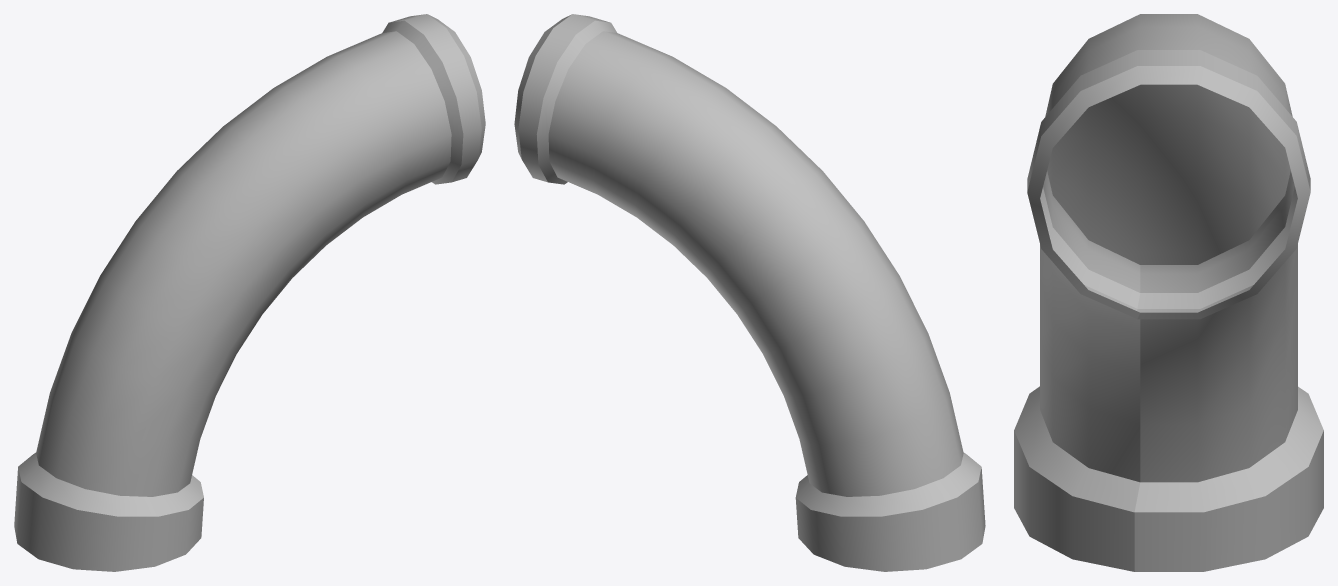
File: KF_SM_LpipeCurve.fbx
3 renders of one model, left to right at view 1: azimuth 30°, elevation 25°; view 2: azimuth 150°, elevation 25°; view 3: azimuth 270°, elevation 25°, orthographic. The views are drawn at different scales.
Parts seen in each view (by area): view 1: KF_SM_LpipeCurve; view 2: KF_SM_LpipeCurve; view 3: KF_SM_LpipeCurve.
Boxes of the visible parts, bbox=[...] form: KF_SM_LpipeCurve: bbox=[14, 14, 485, 571]; KF_SM_LpipeCurve: bbox=[514, 14, 985, 571]; KF_SM_LpipeCurve: bbox=[1014, 14, 1323, 571].
Bounding box in the file's own units: 1486 × 1462 × 582.
